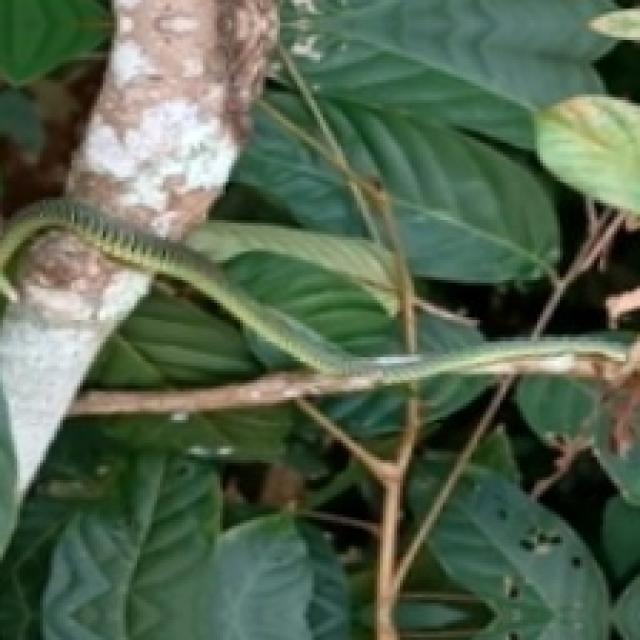paradise tree snake: (0, 197, 363, 371)
